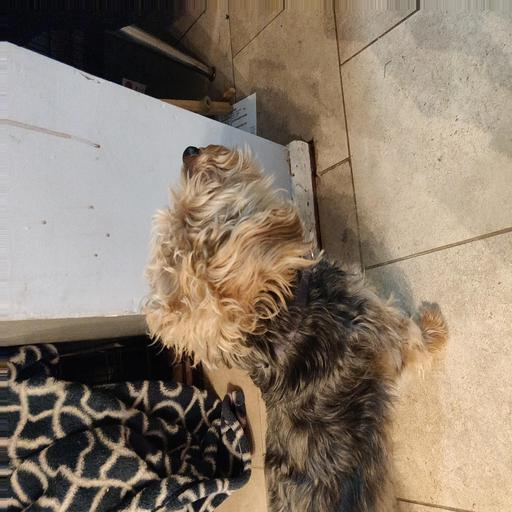dog: (120, 134, 443, 457)
